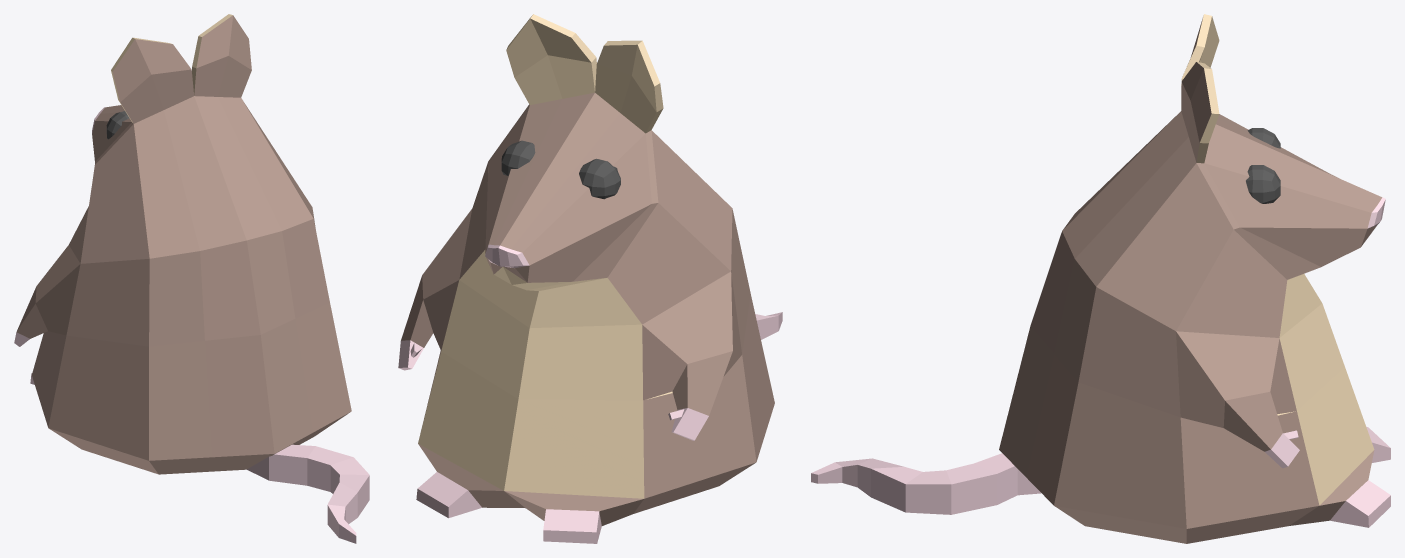
File: 4fcc2601-0e31-4641-962a-656a63528686.glb
3 views of the same model, side by side, from view 1: azimuth 30°, elevation 25°; view 2: azimuth 150°, elevation 25°; view 3: azimuth 270°, elevation 25° (orthographic). The views are drawn at different scales.
Parts seen in each view (by area): view 1: Cube.026_Cube.024; view 2: Cube.026_Cube.024; view 3: Cube.026_Cube.024.
Part boxes in pixels (x1,y1,x2,y2): Cube.026_Cube.024: [14, 14, 369, 543]; Cube.026_Cube.024: [398, 14, 782, 543]; Cube.026_Cube.024: [811, 14, 1390, 543].
Size of the model in its own units: 6.23 by 8.1 by 9.63.
